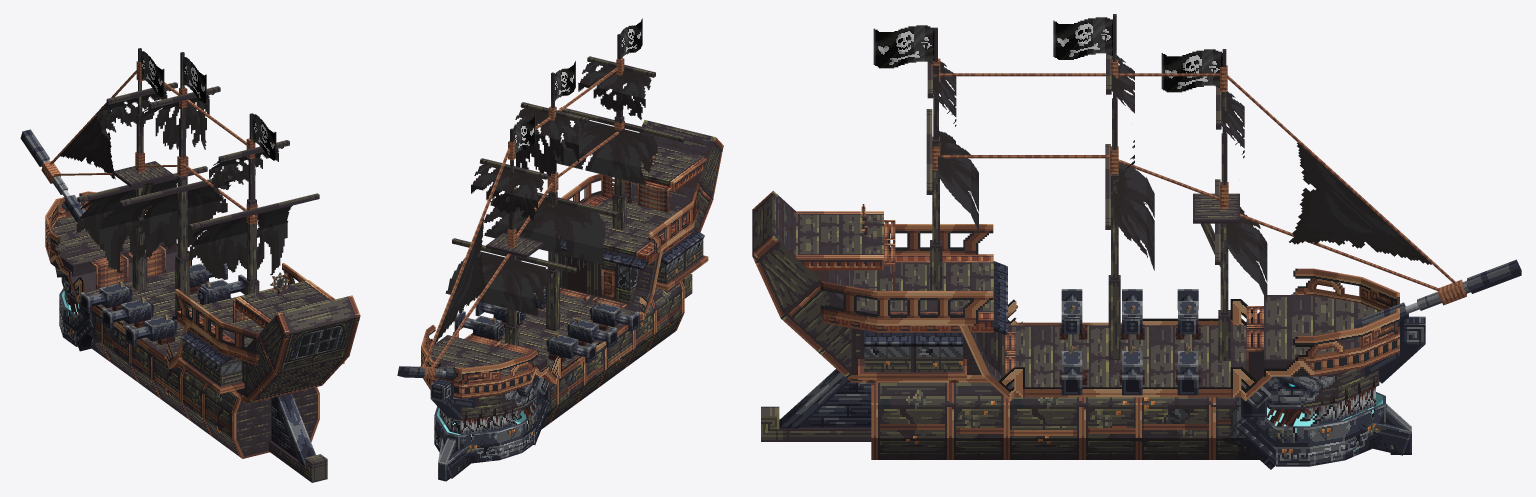
Rendered from corsair-ship-named-nodes.gltf.
3 renders of one model, left to right at view 1: azimuth 30°, elevation 25°; view 2: azimuth 150°, elevation 25°; view 3: azimuth 270°, elevation 25°, orthographic. The views are drawn at different scales.
Visible parts, largest first — view 1: cube (×62); view 2: cube (×66); view 3: cube (×58).
Part boxes in pixels (x1=…): cube (×62): x1=20, y1=51, x2=360, y2=482; cube (×66): x1=422, y1=18, x2=723, y2=478; cube (×58): x1=752, y1=17, x2=1521, y2=466.
Bounding box in the file's own units: 8.73 × 20.33 × 32.4.
Materials: 3 (2 with a texture image).
